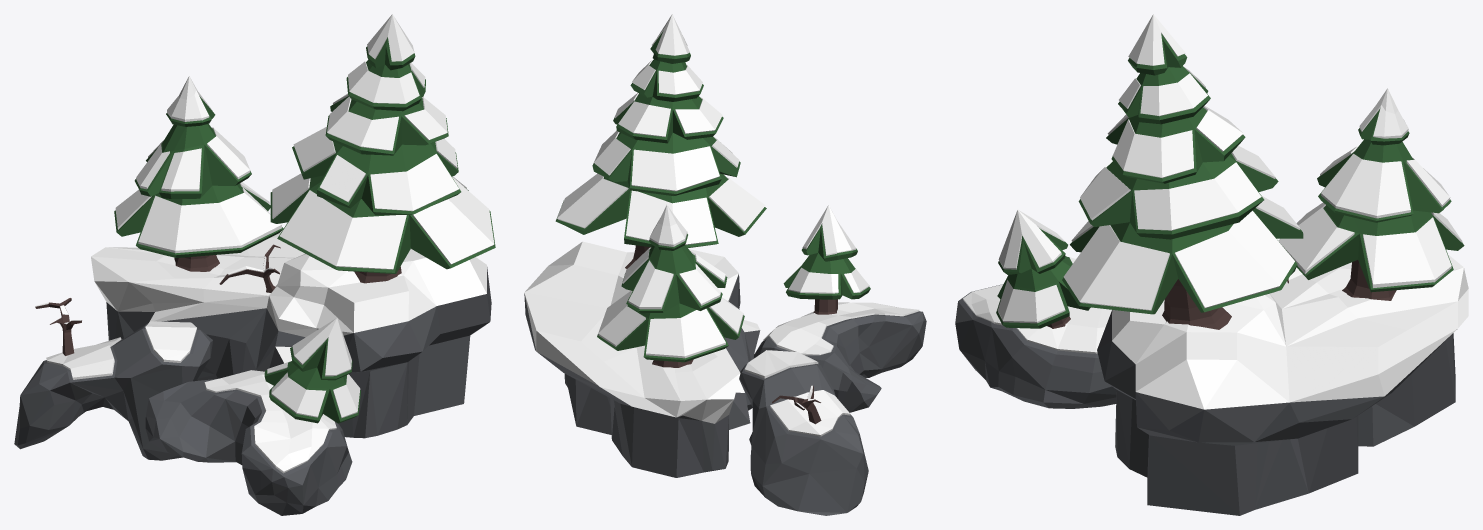
3 renders of one model, left to right at view 1: azimuth 30°, elevation 25°; view 2: azimuth 150°, elevation 25°; view 3: azimuth 270°, elevation 25°, orthographic. The views are drawn at different scales.
Parts seen in each view (by area): view 1: Cube.001, Cylinder, Cube.003, Cylinder.004, Cube.005, Cylinder.003, Cube, Cylinder.009; view 2: Cube.001, Cylinder, Cube.005, Cylinder.004, Cube.003, Cylinder.003, Cube; view 3: Cube.001, Cylinder, Cylinder.004, Cube.003, Cylinder.003.
Part boxes in pixels (bbox=[...]): Cube.001: bbox=[91, 230, 491, 438]; Cylinder: bbox=[270, 14, 495, 283]; Cube.003: bbox=[145, 370, 352, 515]; Cylinder.004: bbox=[114, 76, 283, 271]; Cube.005: bbox=[14, 321, 212, 460]; Cylinder.003: bbox=[264, 318, 360, 423]; Cube: bbox=[35, 298, 81, 355]; Cylinder.009: bbox=[219, 244, 280, 292]; Cube.001: bbox=[524, 241, 760, 477]; Cylinder: bbox=[555, 14, 766, 268]; Cube.005: bbox=[739, 350, 868, 515]; Cylinder.004: bbox=[597, 205, 744, 367]; Cube.003: bbox=[754, 302, 926, 412]; Cylinder.003: bbox=[783, 205, 870, 314]; Cube: bbox=[772, 385, 821, 424]; Cube.001: bbox=[1097, 254, 1468, 515]; Cylinder: bbox=[1062, 14, 1303, 329]; Cylinder.004: bbox=[1278, 88, 1464, 300]; Cube.003: bbox=[955, 284, 1116, 408]; Cylinder.003: bbox=[996, 210, 1090, 328].
Bounding box in the file's own units: 886 × 880 × 854.
